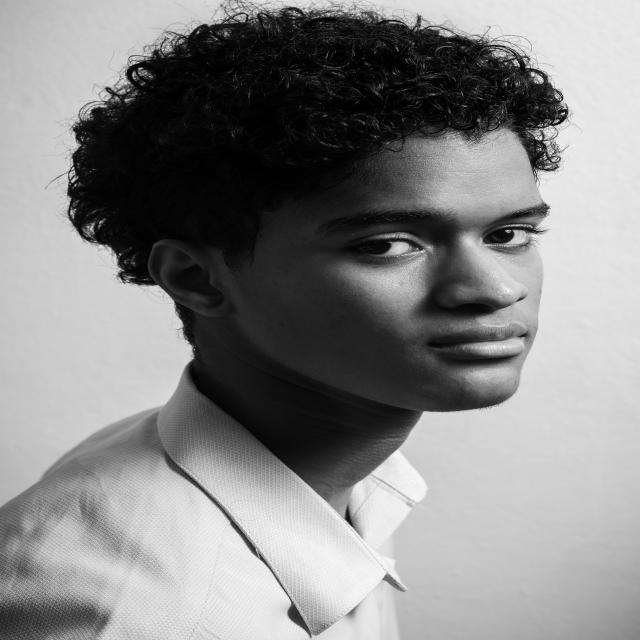adult: (0, 5, 622, 640)
